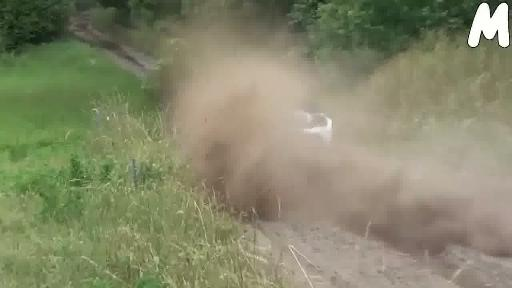CAR: (188, 71, 351, 188)
